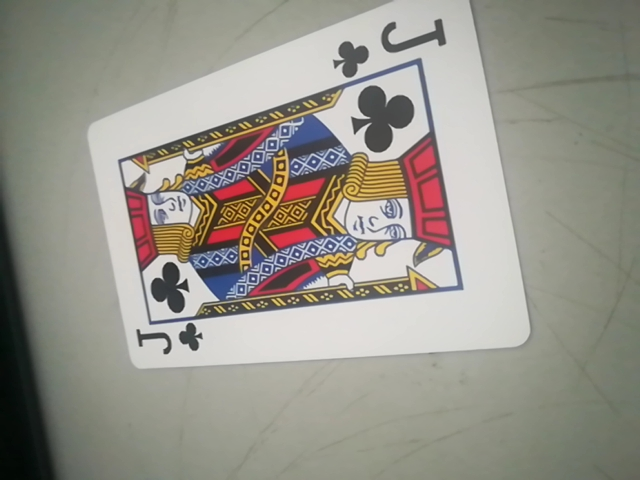mh j: (88, 4, 529, 372)
